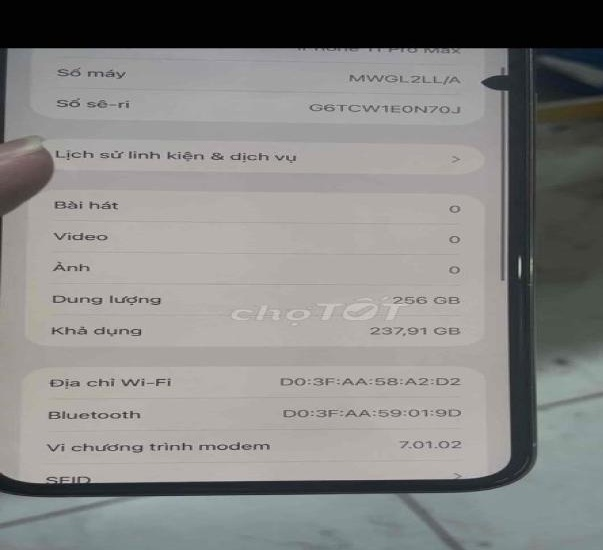screen_defect: (475, 62, 539, 102)
